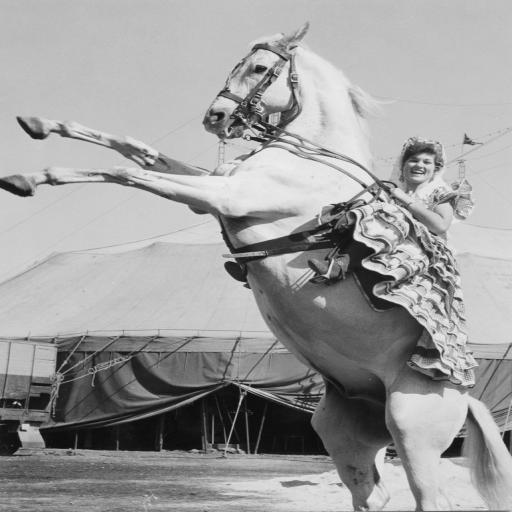horse: (0, 20, 512, 512)
